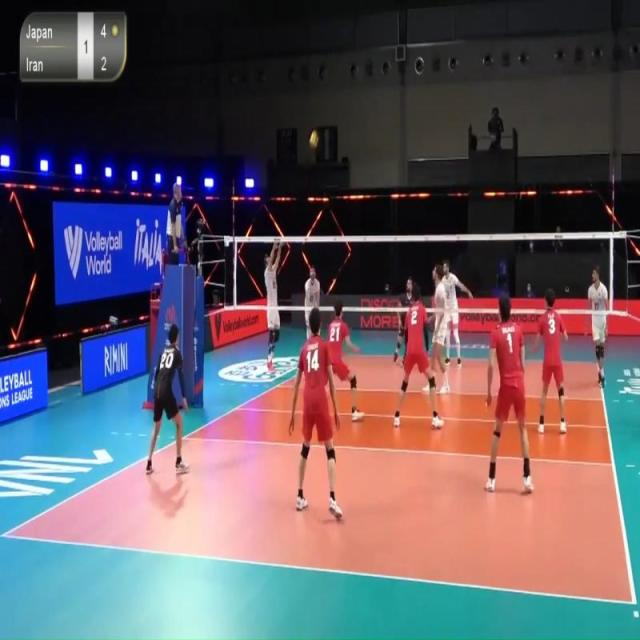volleyball: (307, 128, 320, 151)
